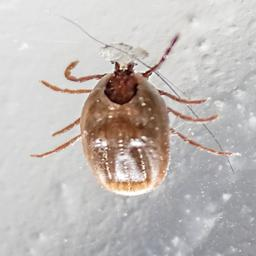Rhipicephalus sanguineus: (29, 32, 240, 196)
